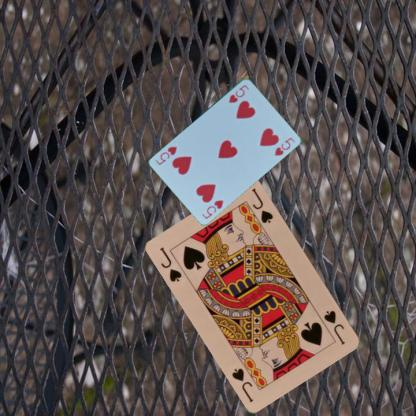5h: (199, 197, 225, 220), (226, 82, 250, 105)
Js: (157, 244, 184, 284), (321, 307, 347, 347)
